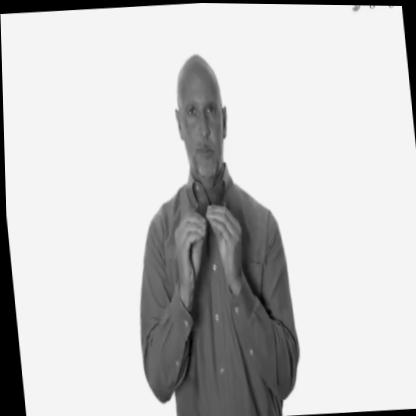Fix: (161, 180, 251, 304)
